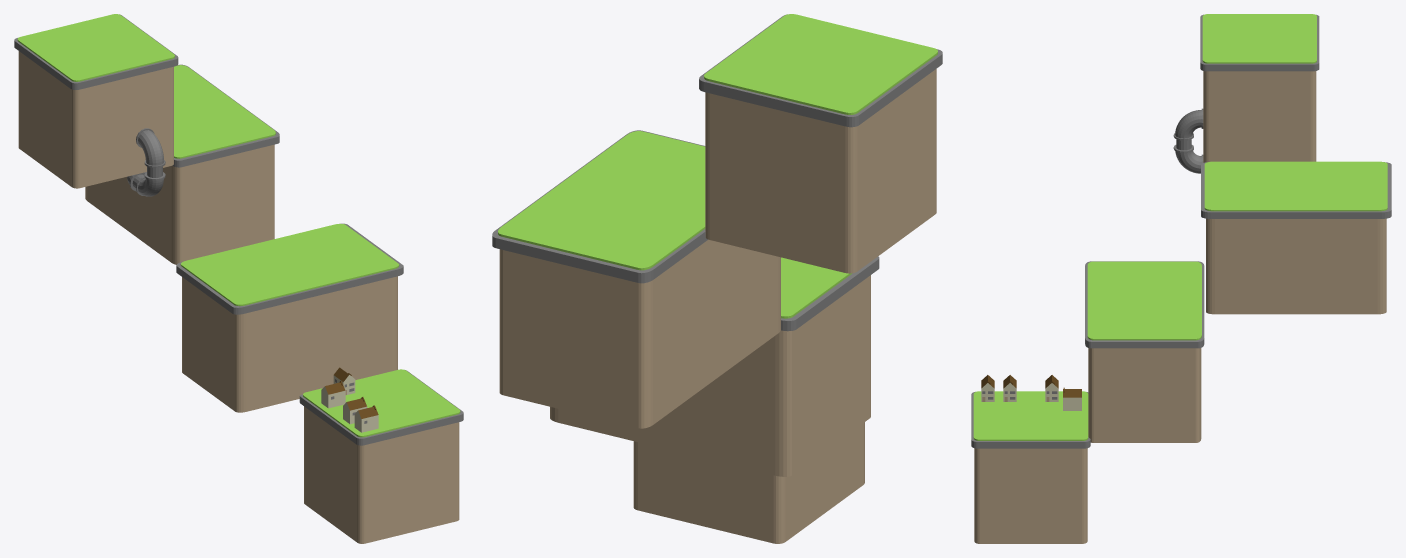
File: world.glb
The picture shows the model from 3 angles, left to right: view 1: azimuth 30°, elevation 25°; view 2: azimuth 150°, elevation 25°; view 3: azimuth 270°, elevation 25°; orthographic projection. The views are drawn at different scales.
Parts seen in each view (by area): view 1: platform.001, platform.003, platform, platform.002, pipeBend, pipeBend.001, house.002, house; view 2: platform.002, platform.003, platform.001, platform; view 3: platform.002, platform.001, platform.003, platform, pipeBend.001, pipeBend.
Boxes of the visible parts, x1,y1,x2,y2 form: platform.001: (176,223,403,412); platform.003: (14,14,178,188); platform: (299,369,463,543); platform.002: (85,64,279,264); pipeBend: (136,128,165,167); pipeBend.001: (136,166,165,196); house.002: (321,381,345,408); house: (354,405,378,432); platform.002: (492,130,780,428); platform.003: (699,14,942,273); platform.001: (550,256,879,476); platform: (633,422,864,543); platform.002: (1201,161,1391,314); platform.001: (1085,261,1204,442); platform.003: (1200,14,1319,162); platform: (971,391,1090,543); pipeBend.001: (1173,139,1203,173); pipeBend: (1173,108,1203,140).
Bounding box in the file's own units: 26.99 × 39.38 × 37.17.
